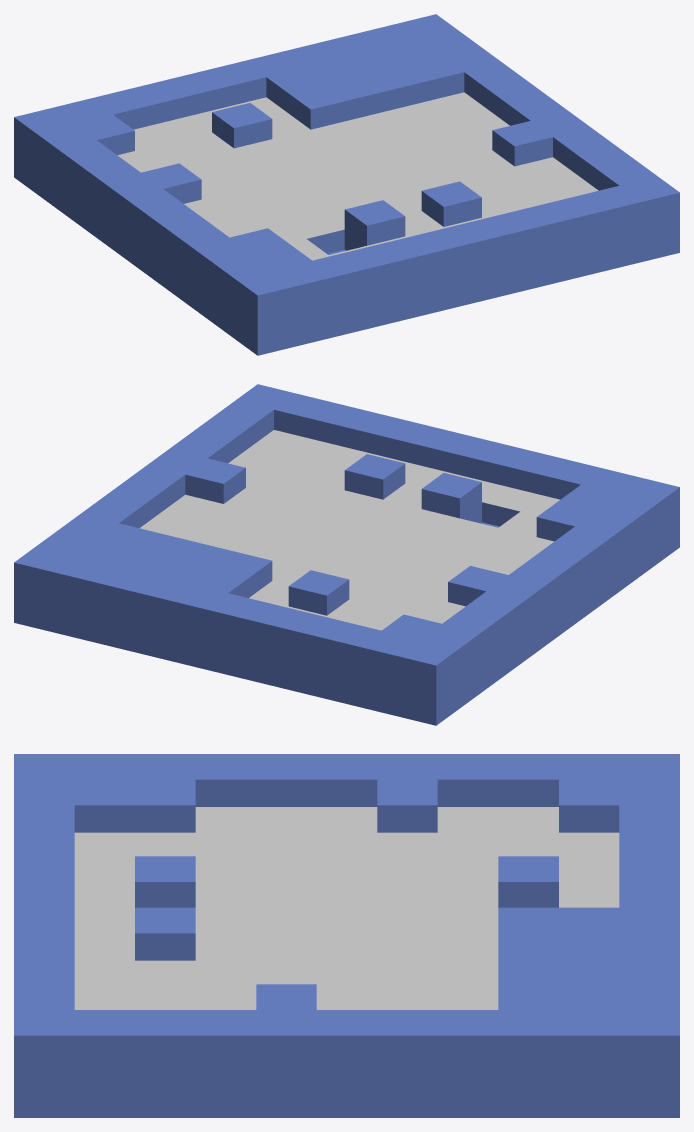
File: 024_platform.fbx
3 views of the same model, one above another, from view 1: azimuth 30°, elevation 25°; view 2: azimuth 150°, elevation 25°; view 3: azimuth 270°, elevation 25° (orthographic). The views are drawn at different scales.
Parts seen in each view (by area): view 1: Cube; view 2: Cube; view 3: Cube.
Part boxes in pixels (x1,y1,x2,y2): Cube: (14, 14, 679, 355); Cube: (14, 384, 679, 725); Cube: (14, 754, 679, 1117).
Size of the model in its own units: 1100 by 150 by 1100.
